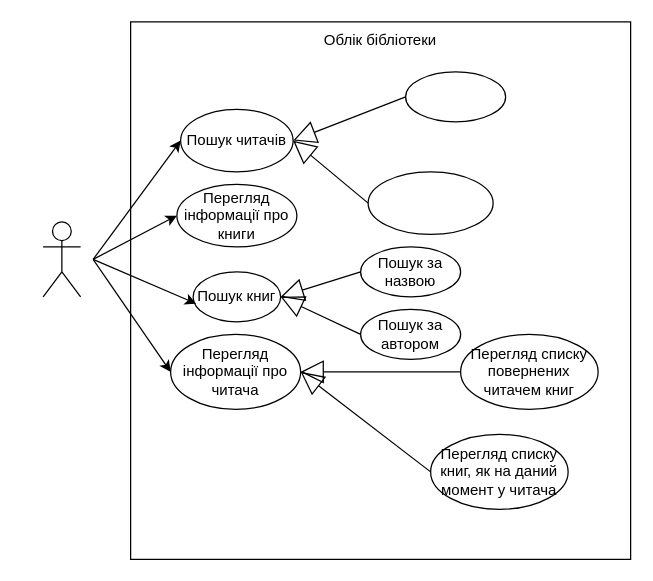
This 653x581 diagram has some shape labels left out. Here are the shapes that lost their labels. From the top down, the centre of each, then its label:
At (455,96): "Пошук за ПІБ".
At (430,202): "Пошук за номером читацького квитка".
At (61,259): "Бібліотекар".
